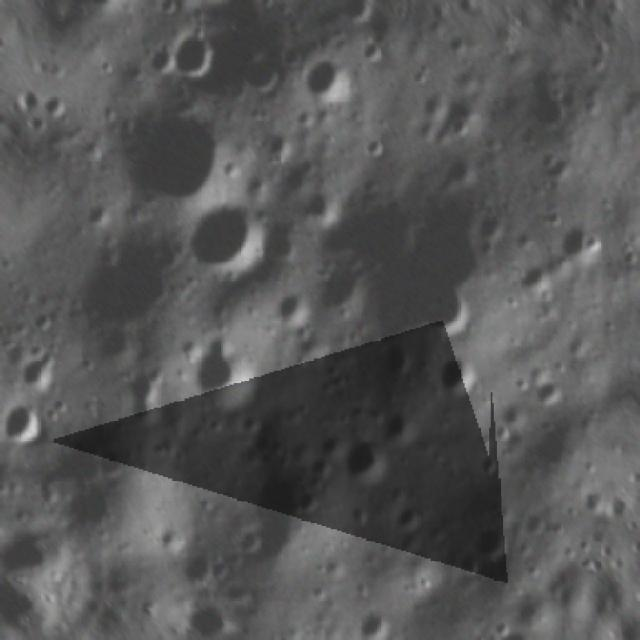crater: (308, 190, 504, 358), (98, 92, 247, 220), (70, 225, 202, 352), (168, 188, 282, 292), (182, 334, 275, 423), (332, 430, 398, 498), (415, 280, 480, 346), (421, 346, 487, 411), (301, 52, 367, 116), (162, 24, 224, 88), (520, 82, 577, 141), (236, 47, 292, 107), (0, 396, 52, 460), (126, 362, 179, 424), (548, 217, 604, 271), (462, 515, 516, 571), (9, 341, 63, 396), (254, 218, 309, 268), (522, 361, 572, 416), (442, 141, 491, 197), (278, 146, 324, 203), (511, 257, 562, 308), (377, 398, 428, 449), (62, 0, 144, 31), (469, 204, 518, 253), (300, 181, 349, 230), (477, 612, 552, 640), (172, 544, 216, 590), (322, 0, 380, 34), (272, 284, 321, 324), (350, 604, 403, 640), (374, 333, 418, 376), (232, 520, 273, 566), (143, 36, 182, 84), (384, 500, 428, 542), (258, 125, 297, 164), (494, 394, 534, 432), (575, 479, 610, 518), (302, 450, 340, 484), (288, 480, 322, 518), (163, 0, 247, 15), (39, 87, 73, 124), (29, 297, 62, 332), (359, 130, 392, 162), (355, 34, 387, 66), (487, 413, 519, 445), (280, 41, 308, 73), (526, 631, 576, 640)
